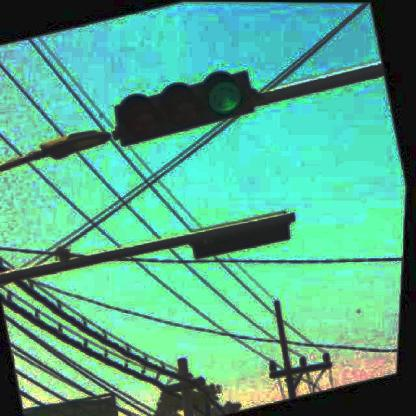Traffic Light -Green-: (110, 64, 260, 151)
